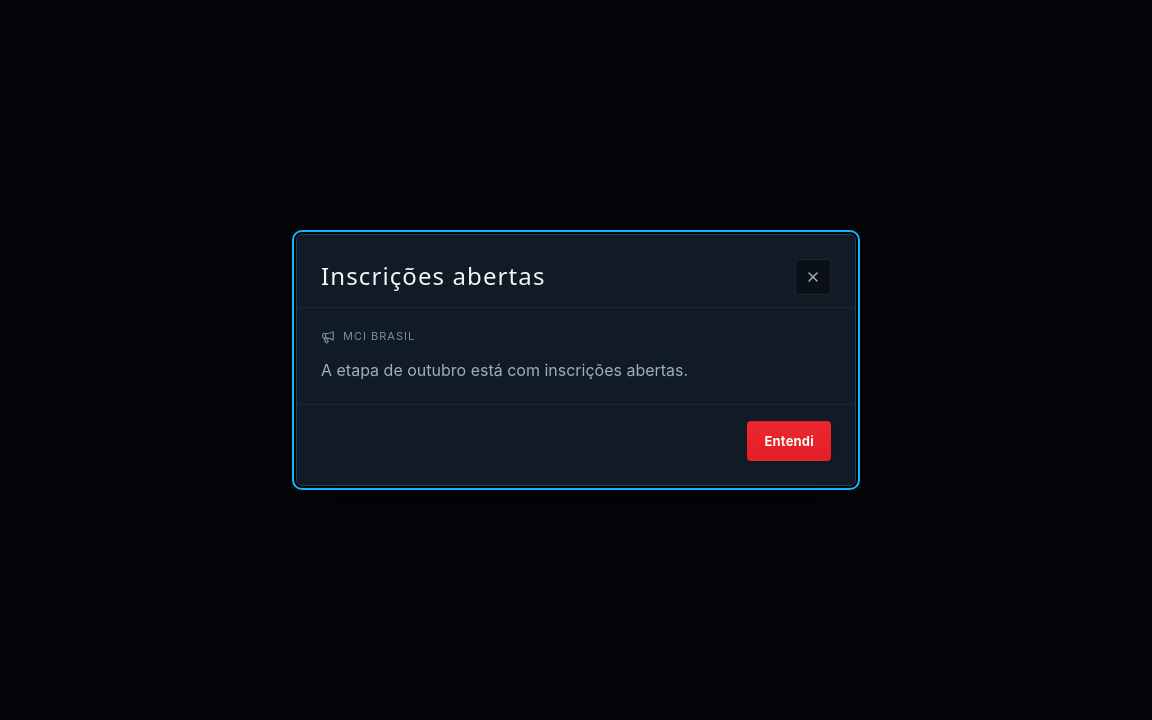
Test: o recado por cima da tela › um de cada vez: o segundo recado só aparece depois que o primeiro fecha
Check: the heading "Inscrições abertas" is shown, box x1=321 y1=259 x2=546 y2=292
Check: the text "Prazo de filiação" is not shown
Step 1. Click the button "Entendi" → coordinates (789, 441), box x1=747 y1=421 x2=831 y2=461
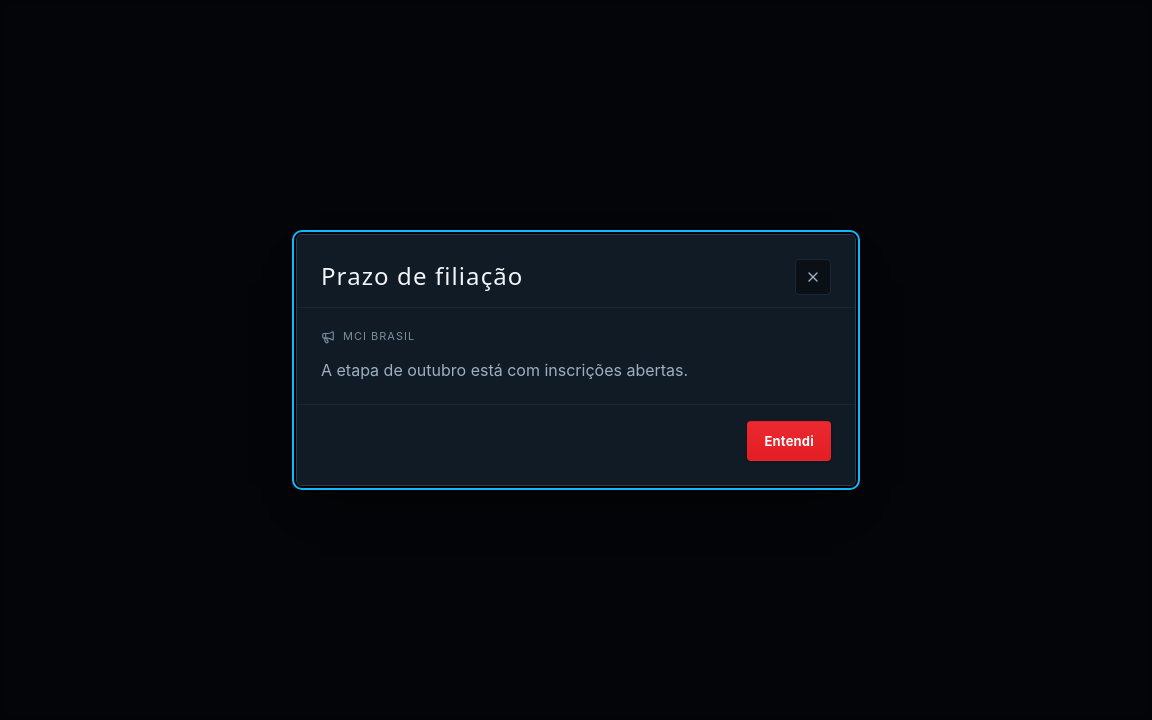
Check: the heading "Prazo de filiação" is shown, box x1=321 y1=259 x2=524 y2=292
